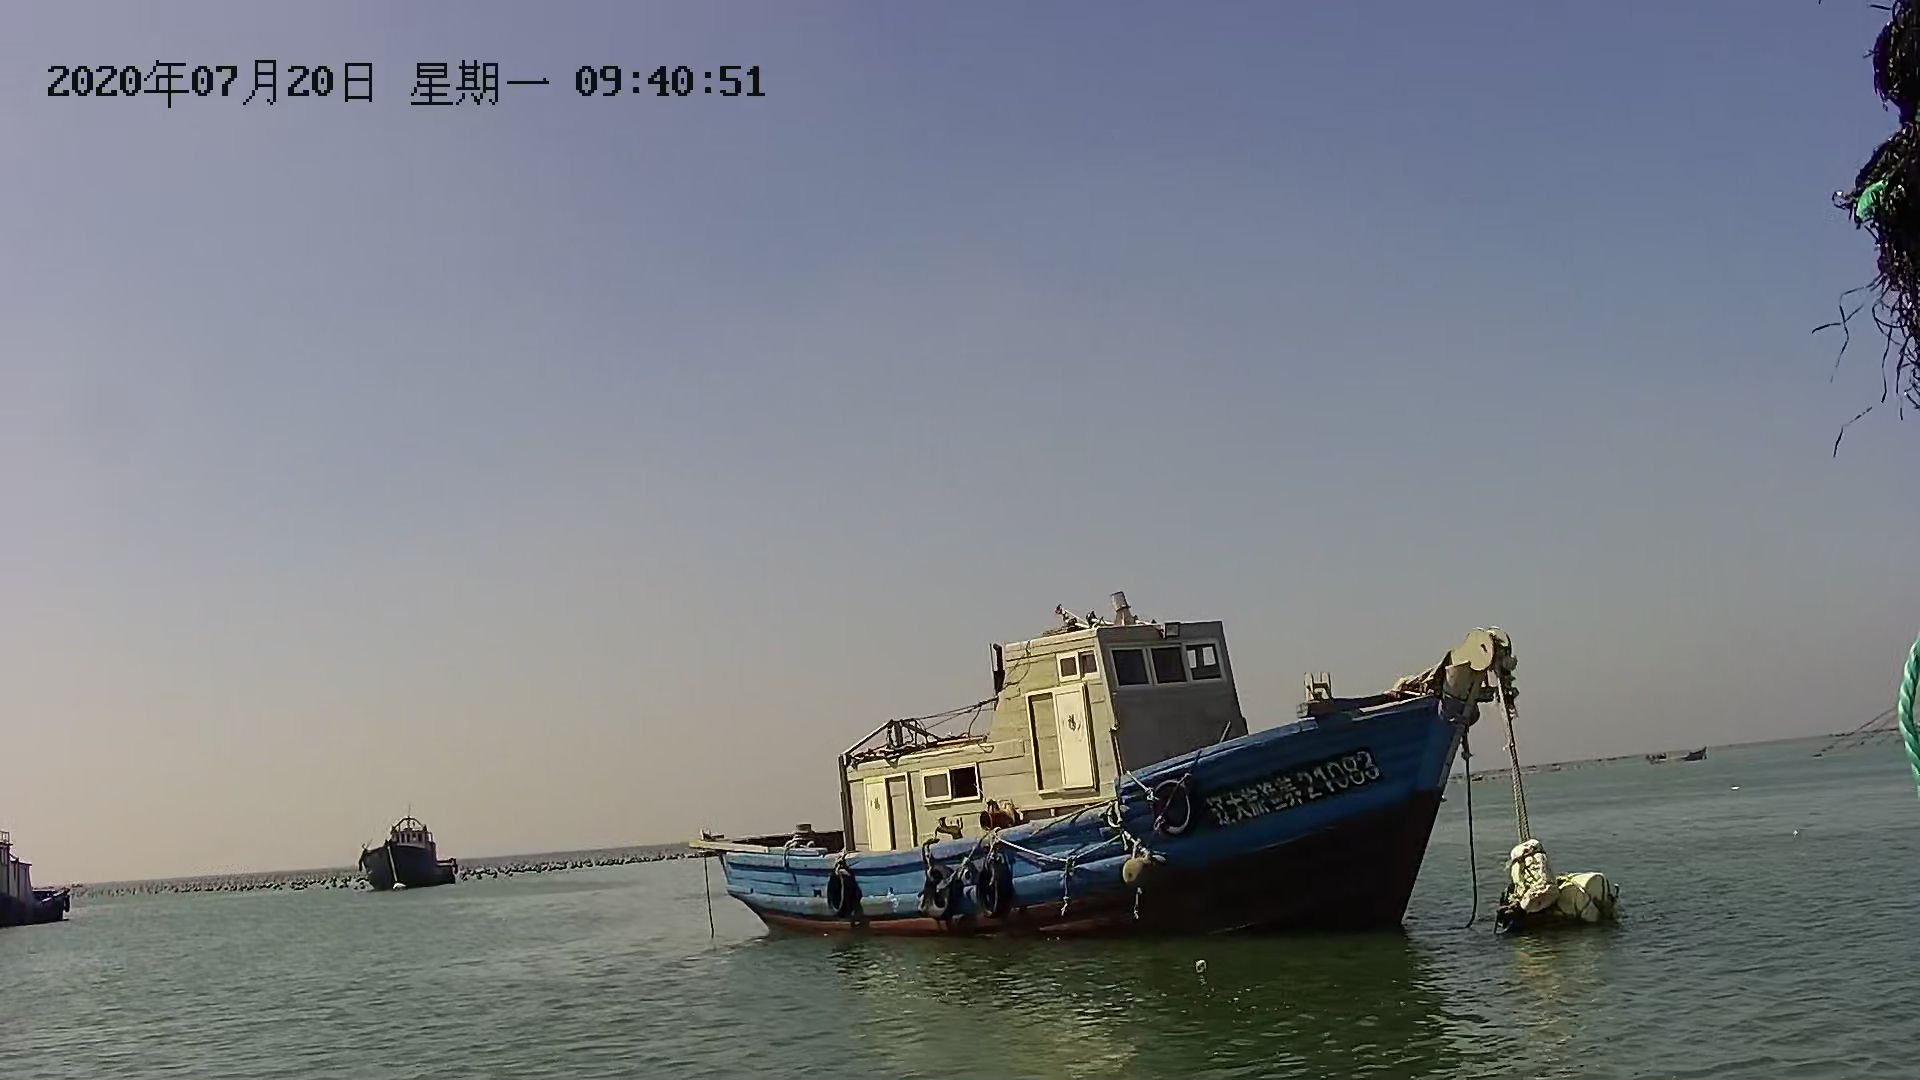boat: (1643, 746, 1714, 765)
rubbish: (1490, 840, 1625, 935)
ship: (696, 605, 1505, 957), (1, 818, 80, 927), (356, 818, 467, 894)
